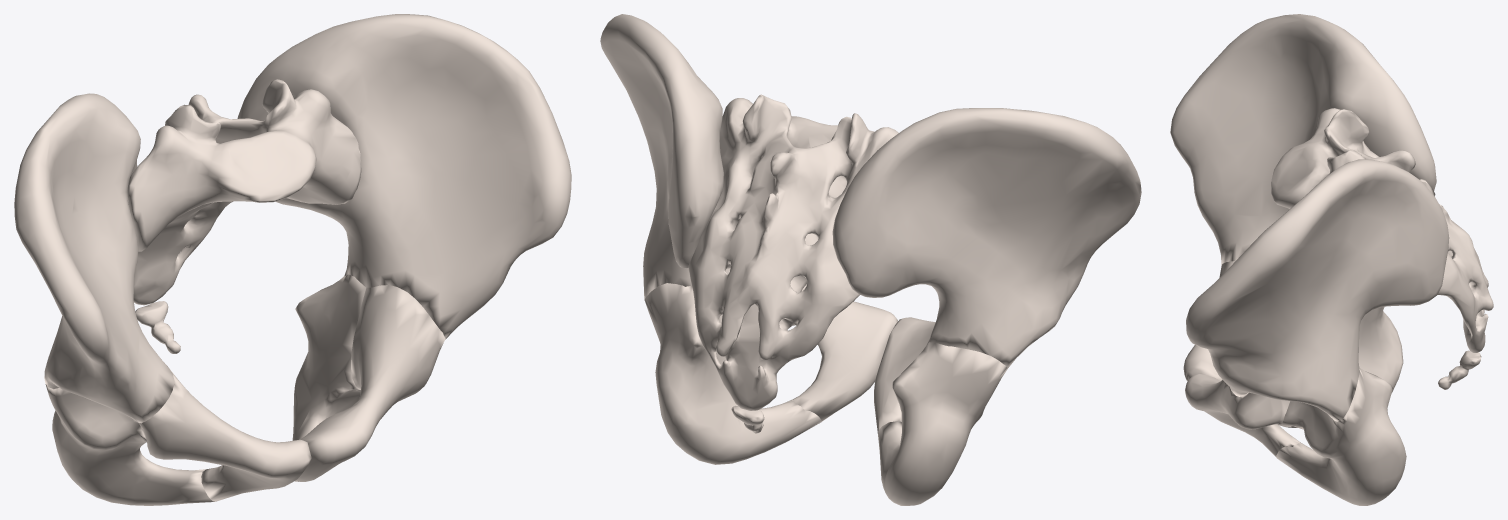
File: vh_m_pelvis-40.glb
The picture shows the model from 3 angles, left to right: view 1: azimuth 30°, elevation 25°; view 2: azimuth 150°, elevation 25°; view 3: azimuth 270°, elevation 25°; orthographic projection. The views are drawn at different scales.
Parts seen in each view (by area): view 1: VH_M_ilium_compact_bone_L, VH_M_ilium_compact_bone_R, VH_M_sacrum, VH_M_pubis_compact_bone_L, VH_M_ischium_compact_bone_R, VH_M_pubis_compact_bone_R, VH_M_ischium_compact_bone_L, VH_M_coccyx; view 2: VH_M_ilium_compact_bone_R, VH_M_sacrum, VH_M_ilium_compact_bone_L, VH_M_ischium_compact_bone_L, VH_M_ischium_compact_bone_R, VH_M_pubis_compact_bone_L, VH_M_pubis_compact_bone_R; view 3: VH_M_ilium_compact_bone_L, VH_M_ilium_compact_bone_R, VH_M_ischium_compact_bone_L, VH_M_sacrum, VH_M_pubis_compact_bone_L, VH_M_ischium_compact_bone_R, VH_M_pubis_compact_bone_R, VH_M_coccyx.
Part boxes in pixels (left/top/right/bottom): VH_M_ilium_compact_bone_L: left=237, top=14, right=571, bottom=339; VH_M_ilium_compact_bone_R: left=14, top=93, right=174, bottom=423; VH_M_sacrum: left=127, top=79, right=361, bottom=305; VH_M_pubis_compact_bone_L: left=295, top=285, right=445, bottom=481; VH_M_ischium_compact_bone_R: left=45, top=384, right=214, bottom=505; VH_M_pubis_compact_bone_R: left=139, top=370, right=311, bottom=501; VH_M_ischium_compact_bone_L: left=292, top=274, right=366, bottom=481; VH_M_coccyx: left=135, top=301, right=180, bottom=353; VH_M_ilium_compact_bone_R: left=832, top=108, right=1141, bottom=367; VH_M_sacrum: left=688, top=94, right=898, bottom=410; VH_M_ilium_compact_bone_L: left=600, top=14, right=723, bottom=299; VH_M_ischium_compact_bone_L: left=644, top=268, right=821, bottom=464; VH_M_ischium_compact_bone_R: left=878, top=342, right=1007, bottom=505; VH_M_pubis_compact_bone_L: left=793, top=284, right=897, bottom=421; VH_M_pubis_compact_bone_R: left=874, top=317, right=935, bottom=433; VH_M_ilium_compact_bone_L: left=1186, top=159, right=1449, bottom=421; VH_M_ilium_compact_bone_R: left=1170, top=14, right=1436, bottom=264; VH_M_ischium_compact_bone_L: left=1276, top=367, right=1406, bottom=505; VH_M_sacrum: left=1271, top=108, right=1493, bottom=352; VH_M_pubis_compact_bone_L: left=1185, top=373, right=1299, bottom=456; VH_M_ischium_compact_bone_R: left=1288, top=307, right=1403, bottom=427; VH_M_pubis_compact_bone_R: left=1183, top=261, right=1291, bottom=427; VH_M_coccyx: left=1438, top=350, right=1481, bottom=389.
Bounding box in the file's own units: 0.2836 × 0.2185 × 0.1728.
